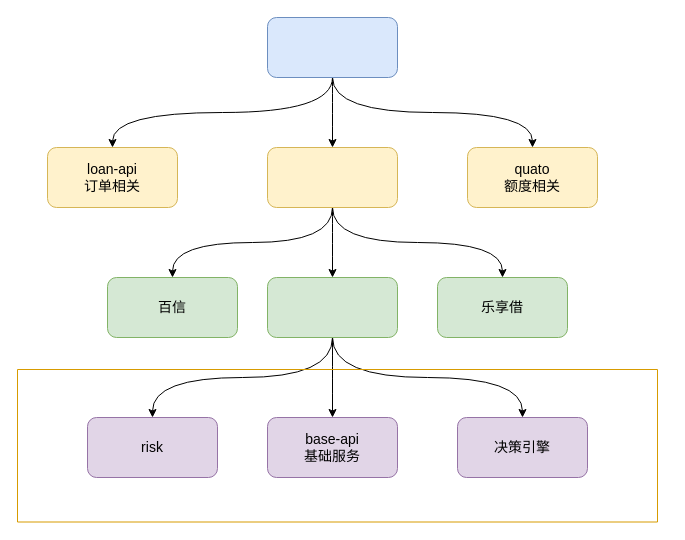
Some shapes in this 685 by 540 pixel diagram are drawn without their labels. Each missing label, with the centre of its shape:
"channel-api 渠道相关" belongs at point (332, 177).
"loan-product 网关" belongs at point (332, 47).
"repayment-api 自营渠道" belongs at point (332, 307).
"基础原子服务" belongs at point (337, 445).
